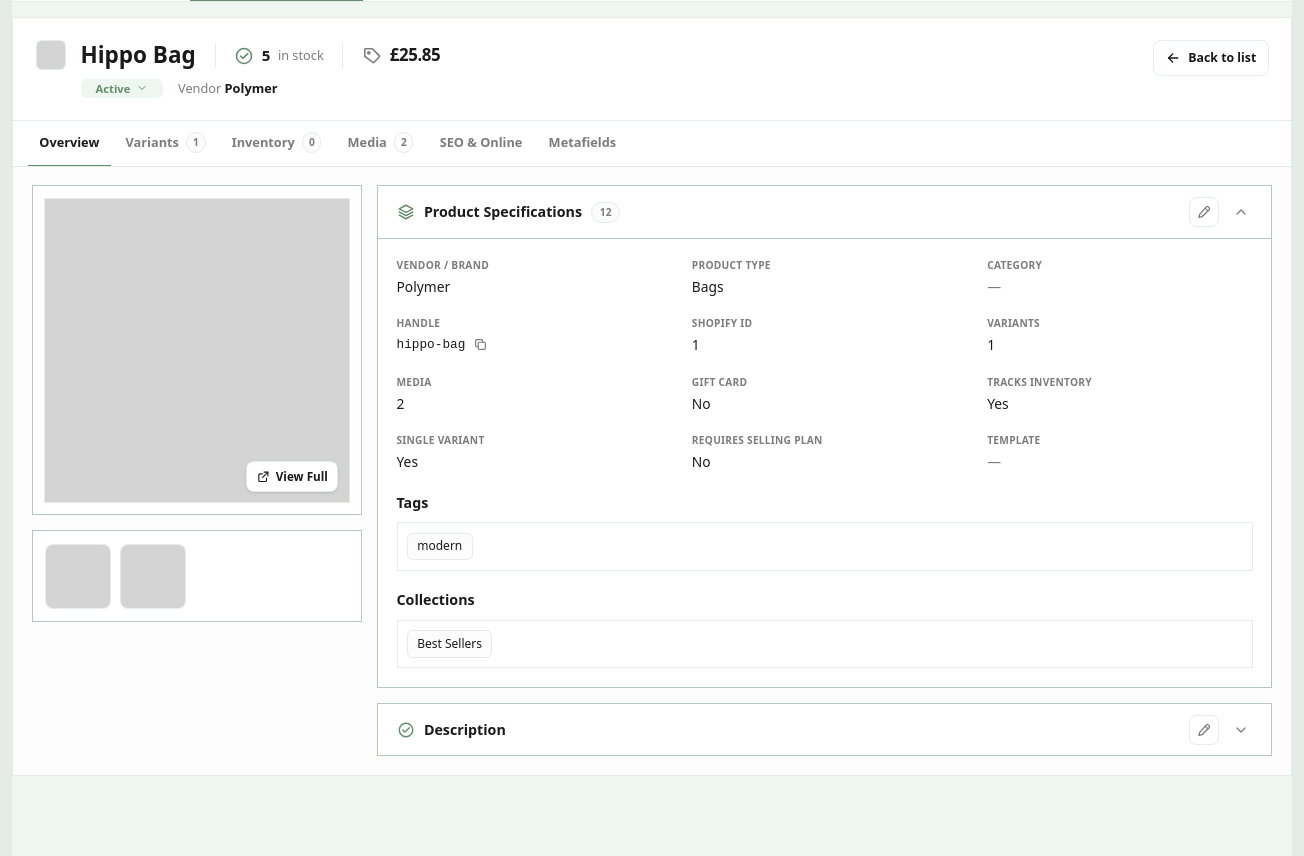
Test: editing a section in place › turns the pencil into Save and Discard, and only for the section being edited
Expected: the heading "Hippo Bag" is shown, [80,40,196,71]
Click the button named "Edit specifications": (1204, 212) [1189,197,1219,227]
(page scrolled)
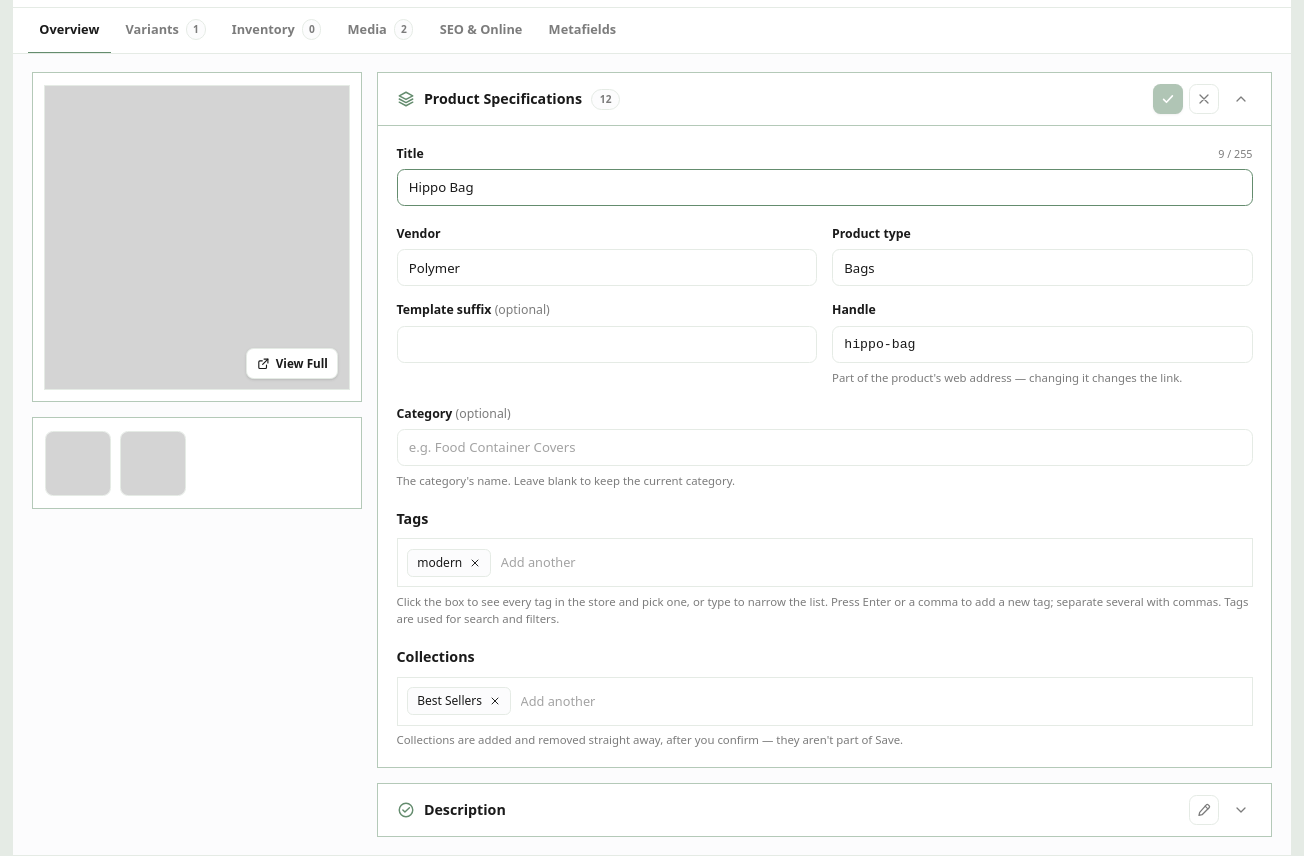
Result: the button named "Save specifications" is shown at [1153,84,1183,114]
